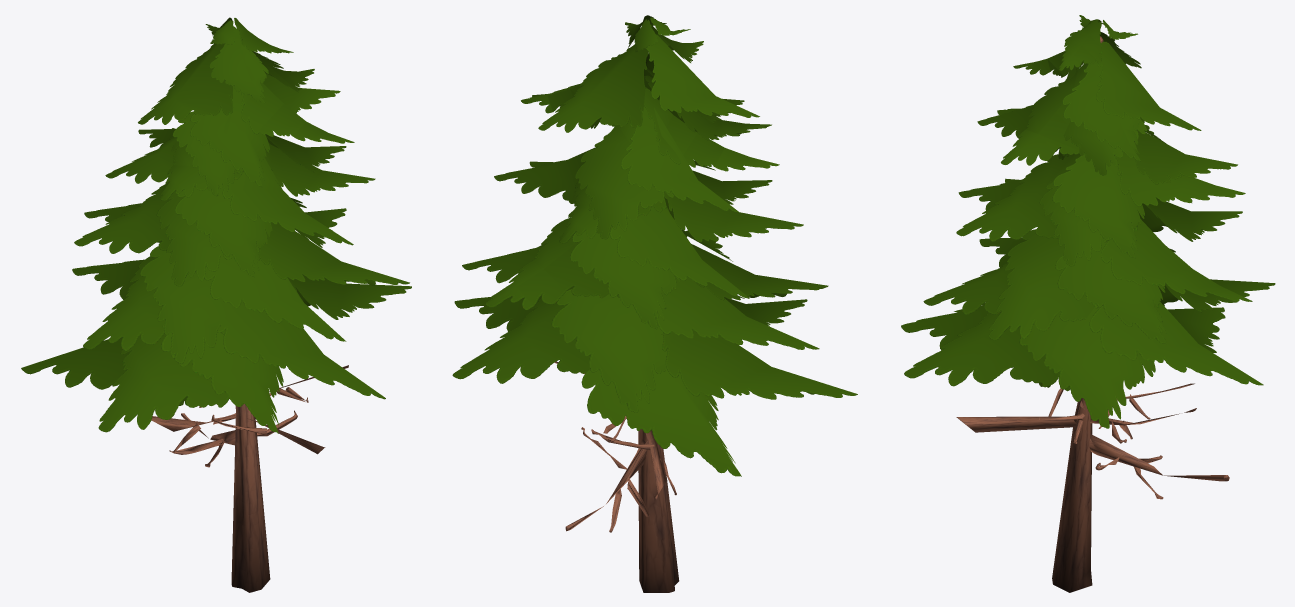
The model's file is pine_1_1.glb.
3 renders of one model, left to right at view 1: azimuth 30°, elevation 25°; view 2: azimuth 150°, elevation 25°; view 3: azimuth 270°, elevation 25°, orthographic. The views are drawn at different scales.
Parts seen in each view (by area): view 1: Pine_1; view 2: Pine_1; view 3: Pine_1.
Part boxes in pixels (x1=…): Pine_1: x1=21, y1=17, x2=411, y2=592; Pine_1: x1=452, y1=15, x2=857, y2=592; Pine_1: x1=901, y1=15, x2=1275, y2=592.
Size of the model in its own units: 4.94 by 7.32 by 4.54.
2 materials, 2 textured.
